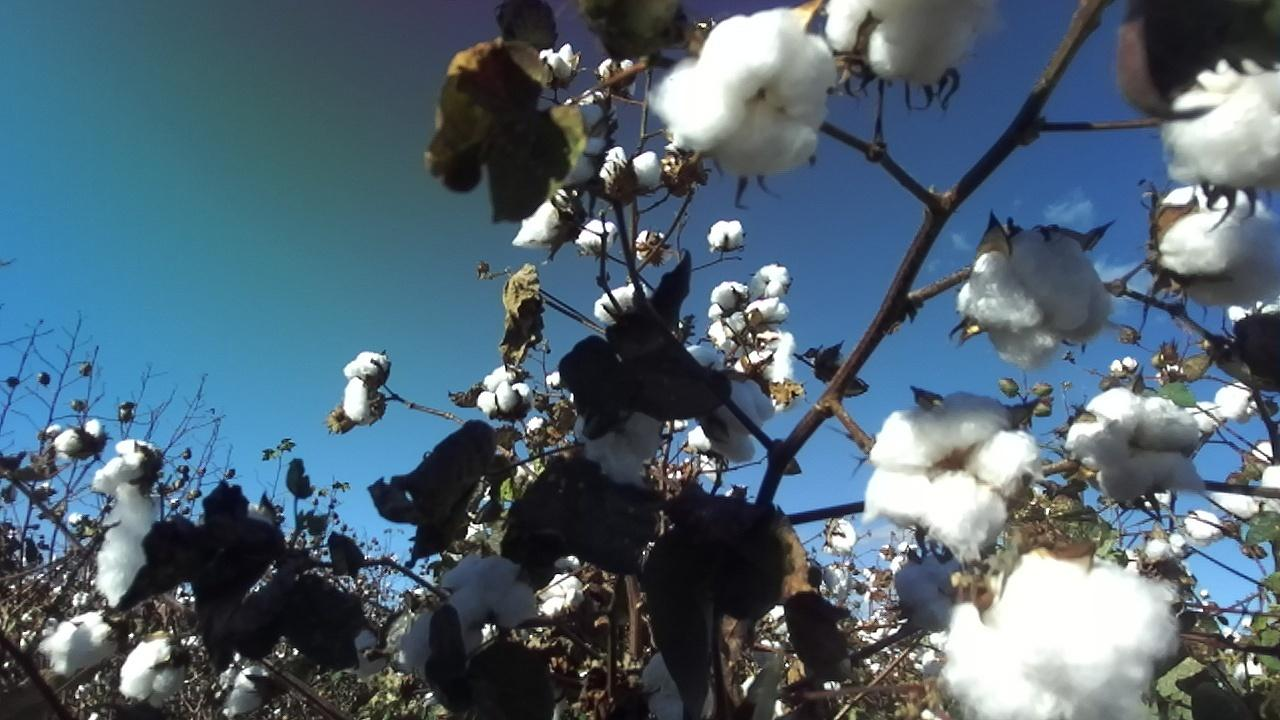cotton_ready: (941, 549, 1185, 720), (653, 10, 839, 184), (858, 394, 1042, 555), (957, 229, 1112, 369), (1064, 386, 1215, 505), (825, 0, 992, 90), (1165, 57, 1280, 187), (1162, 187, 1280, 310), (93, 435, 159, 605), (405, 587, 492, 690), (440, 553, 542, 630), (577, 403, 667, 489), (700, 379, 779, 465), (894, 554, 973, 629), (638, 647, 719, 720), (40, 613, 135, 675), (121, 630, 192, 700), (512, 184, 580, 248), (343, 349, 385, 430)
